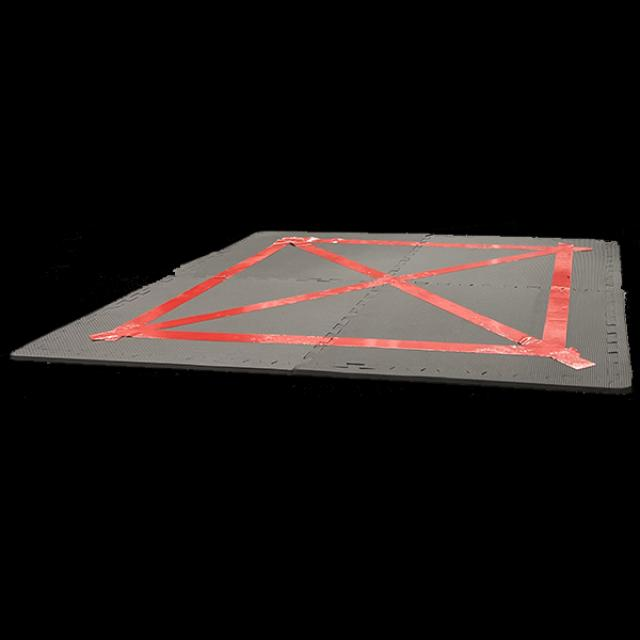landingPads: (14, 231, 636, 389)
